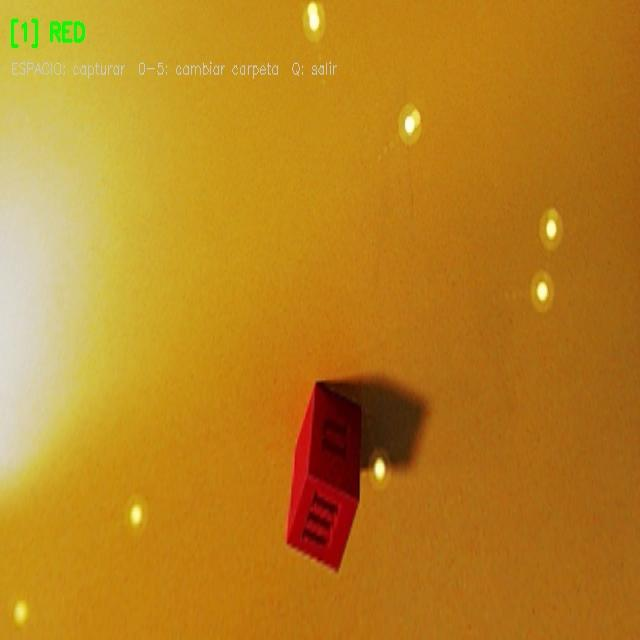red: (287, 383, 359, 569)
